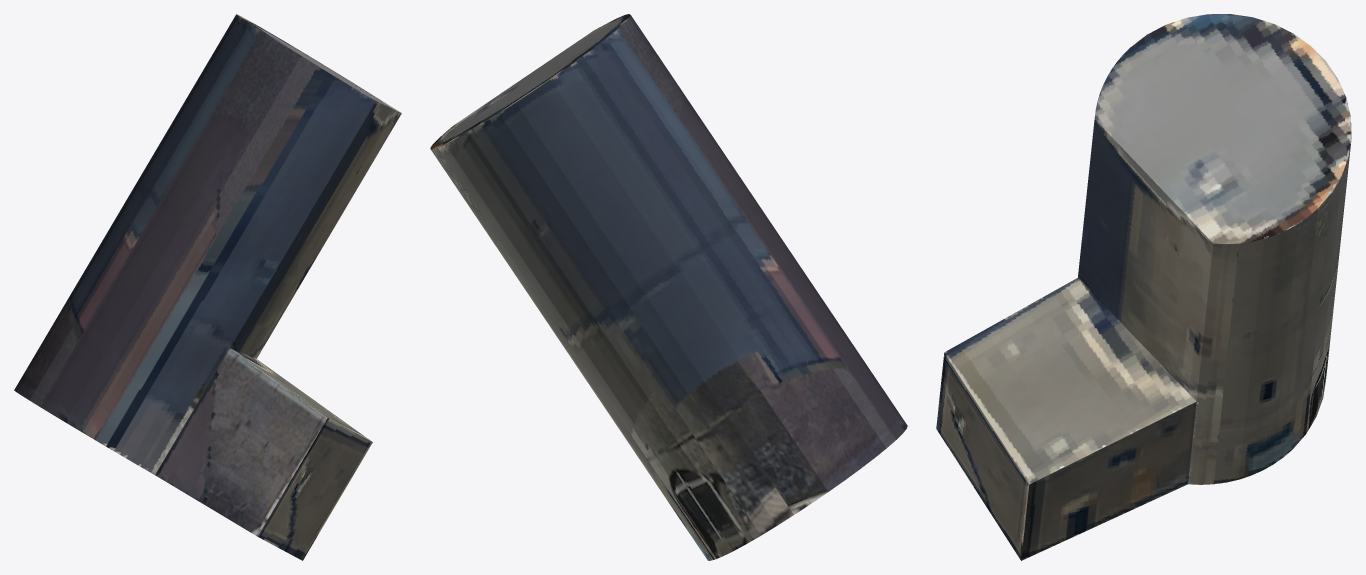
3 renders of one model, left to right at view 1: azimuth 30°, elevation 25°; view 2: azimuth 150°, elevation 25°; view 3: azimuth 270°, elevation 25°, orthographic. The views are drawn at different scales.
Visible parts, largest first — view 1: BAG_0599100000656913 (×6); view 2: BAG_0599100000656913 (×6); view 3: BAG_0599100000656913 (×7).
Part boxes in pixels (<box>): BAG_0599100000656913 (×6): <box>14,14,401,560</box>; BAG_0599100000656913 (×6): <box>430,14,907,560</box>; BAG_0599100000656913 (×7): <box>936,14,1351,560</box>.
Bounding box in the file's own units: 16.68 × 19.73 × 13.08.
1 material, 1 textured.
